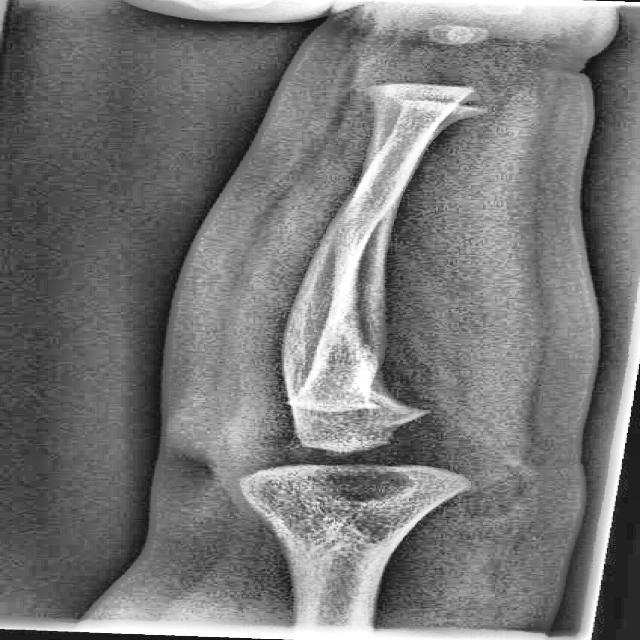fracture: (354, 387, 396, 405)
